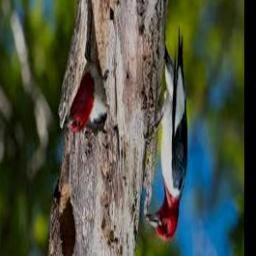Woodpecker: (145, 28, 188, 240), (65, 20, 108, 138)
